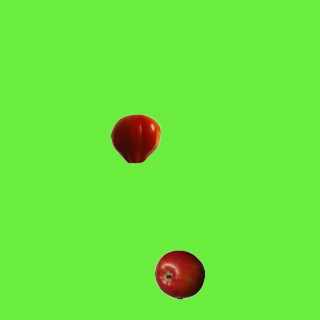Apple Braeburn: (154, 249, 204, 299)
Tomato 1: (110, 113, 160, 163)
